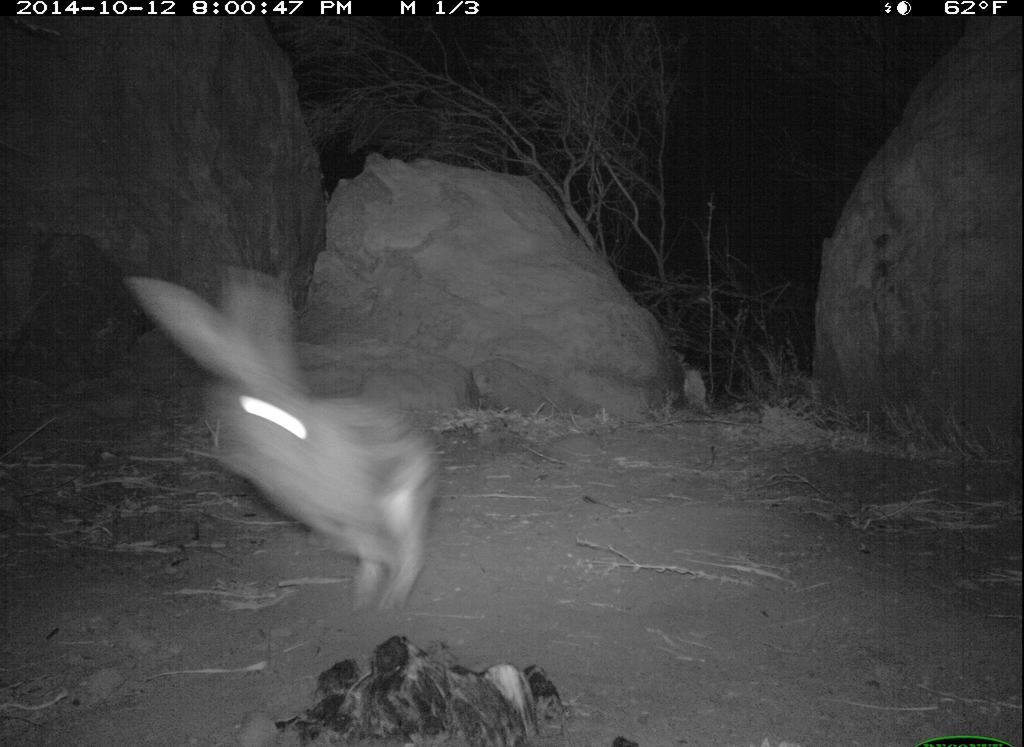rabbit: (126, 260, 442, 615)
